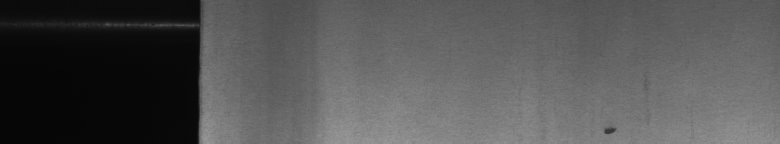fi: (597, 80, 648, 136)
